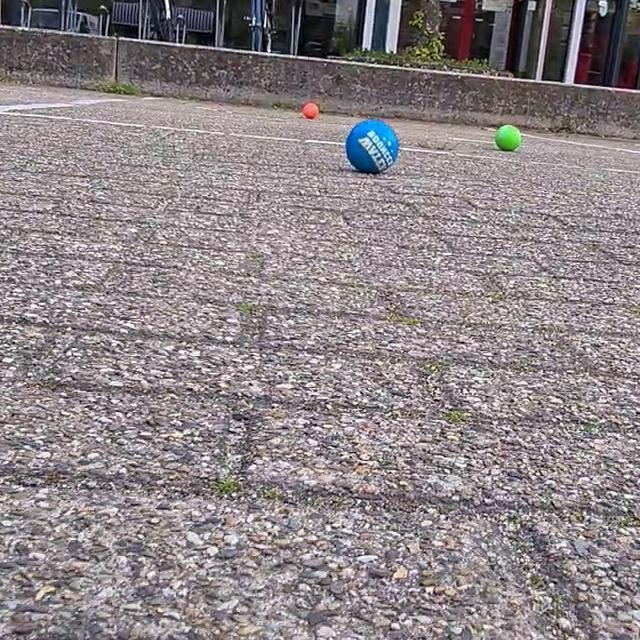ball: (492, 122, 524, 153), (300, 98, 321, 120)
